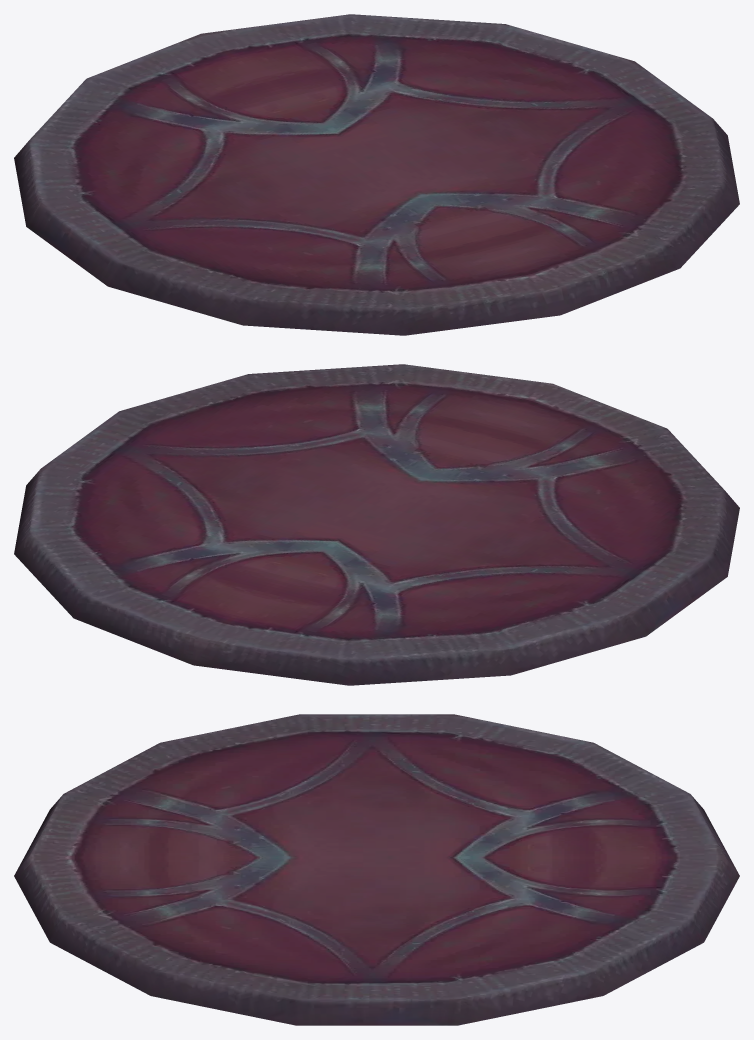
3 views of the same model, one above another, from view 1: azimuth 30°, elevation 25°; view 2: azimuth 150°, elevation 25°; view 3: azimuth 270°, elevation 25° (orthographic).
Size of the model in its own units: 3.22 by 0.0925 by 3.3.
1 material, 1 textured.
